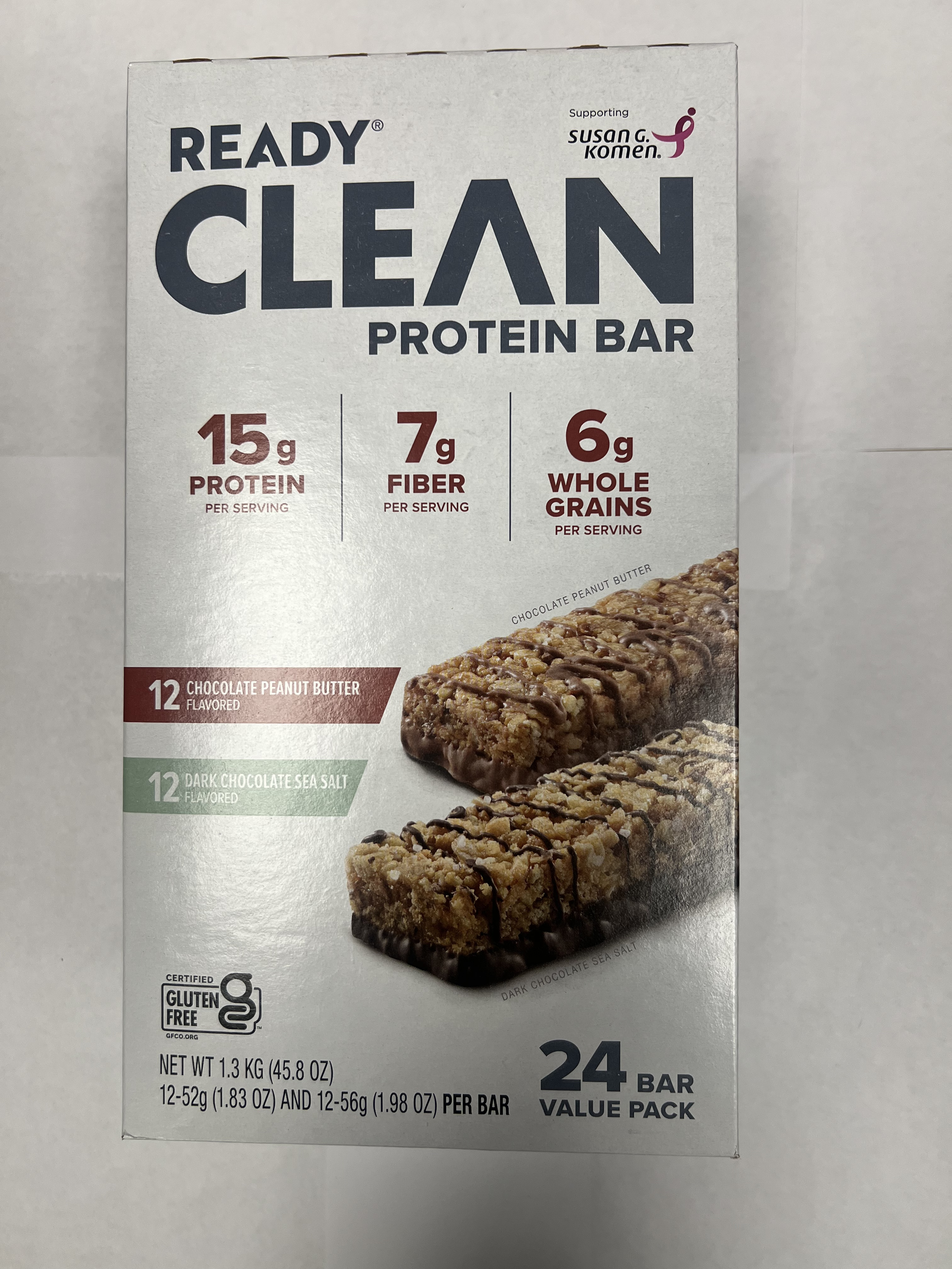packaged: (108, 39, 754, 1169)
